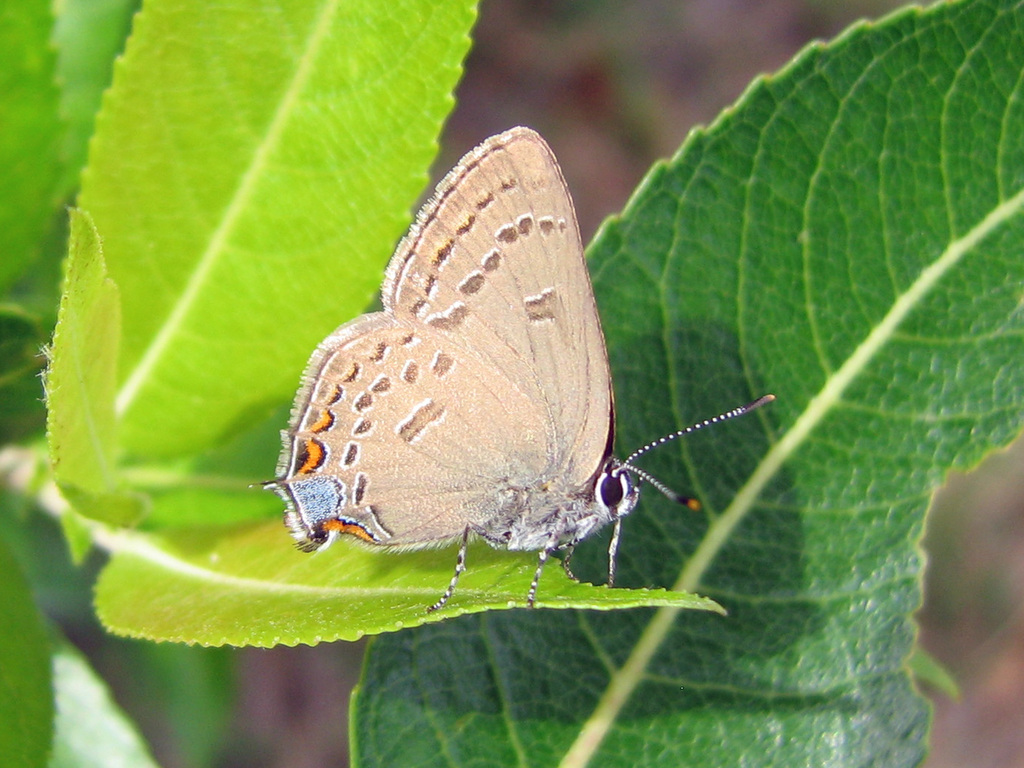Butterfly: (266, 116, 716, 580)
